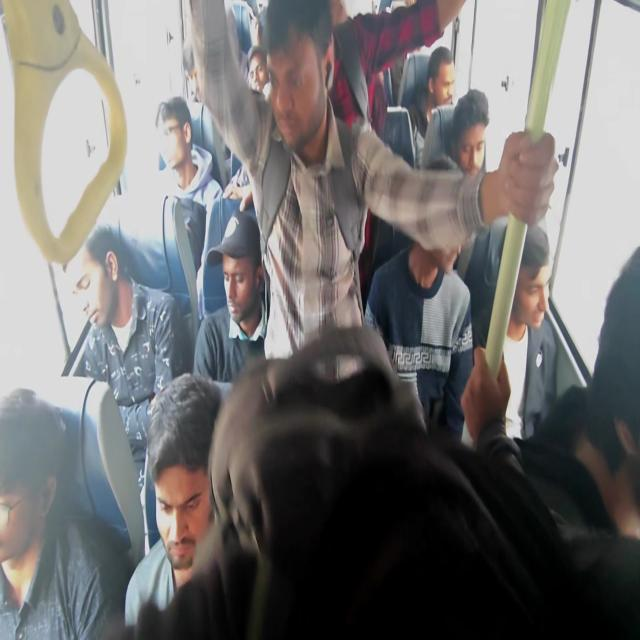person: (595, 313, 640, 531), (0, 420, 62, 578), (151, 423, 209, 574), (70, 234, 136, 338), (417, 162, 468, 296), (271, 24, 324, 139), (216, 227, 260, 334), (509, 238, 557, 332), (154, 106, 203, 190), (454, 96, 490, 169), (178, 38, 208, 97), (251, 45, 267, 112), (432, 61, 456, 105), (244, 14, 265, 50)
